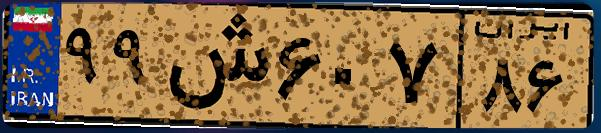0: (330, 28, 385, 110)
6: (270, 28, 330, 110), (525, 38, 570, 115)
7: (385, 28, 445, 110)
8: (475, 38, 525, 113)
9: (57, 26, 110, 100), (110, 28, 158, 98)
ش: (158, 12, 270, 120)
